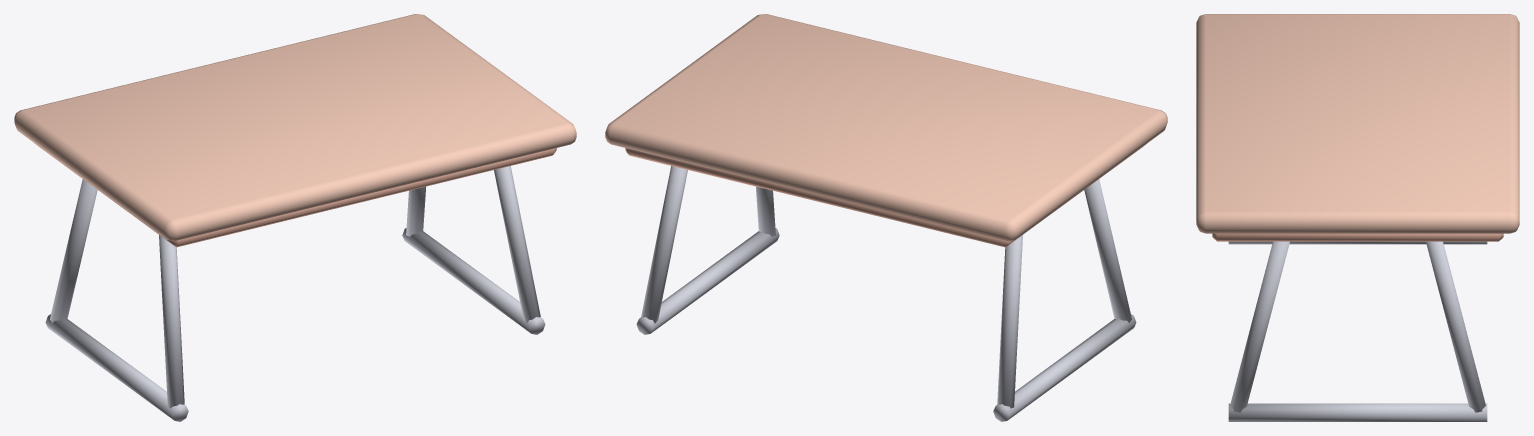
The model's file is table_folding.glb.
The picture shows the model from 3 angles, left to right: view 1: azimuth 30°, elevation 25°; view 2: azimuth 150°, elevation 25°; view 3: azimuth 270°, elevation 25°; orthographic projection. The views are drawn at different scales.
Visible parts, largest first — view 1: table_folding__TableTop, table_folding__TableLeg, table_folding__TableEdge; view 2: table_folding__TableTop, table_folding__TableLeg, table_folding__TableEdge; view 3: table_folding__TableTop, table_folding__TableLeg, table_folding__TableEdge.
Part boxes in pixels (x1,y1,x2,y2): table_folding__TableTop: (14,14,576,240); table_folding__TableLeg: (45,166,545,421); table_folding__TableEdge: (36,144,556,247); table_folding__TableTop: (605,14,1167,240); table_folding__TableLeg: (636,166,1136,421); table_folding__TableEdge: (625,144,1145,247); table_folding__TableTop: (1196,14,1519,233); table_folding__TableLeg: (1228,241,1487,421); table_folding__TableEdge: (1212,233,1503,241).
Bounding box in the file's own units: 0.6 × 0.3 × 0.4.
